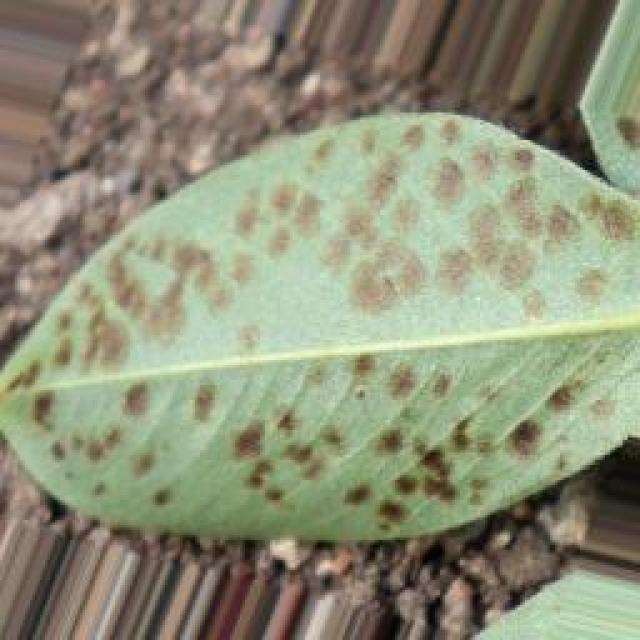Whitefly: (0, 90, 640, 548)
